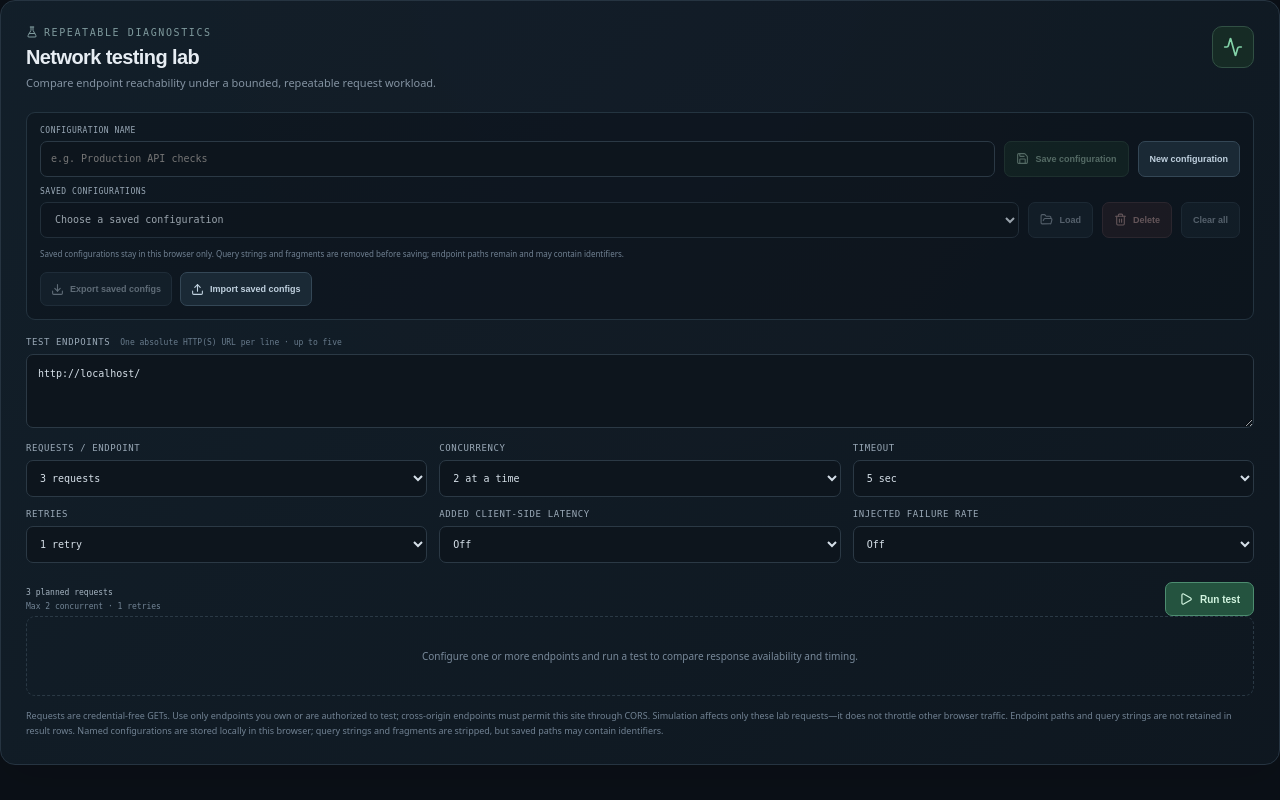
it: NetworkTestLab › deletes a saved configuration from local storage
In the field labelled "Configuration name": (518, 159) 40,141 -> 996,177, type "Temporary config"
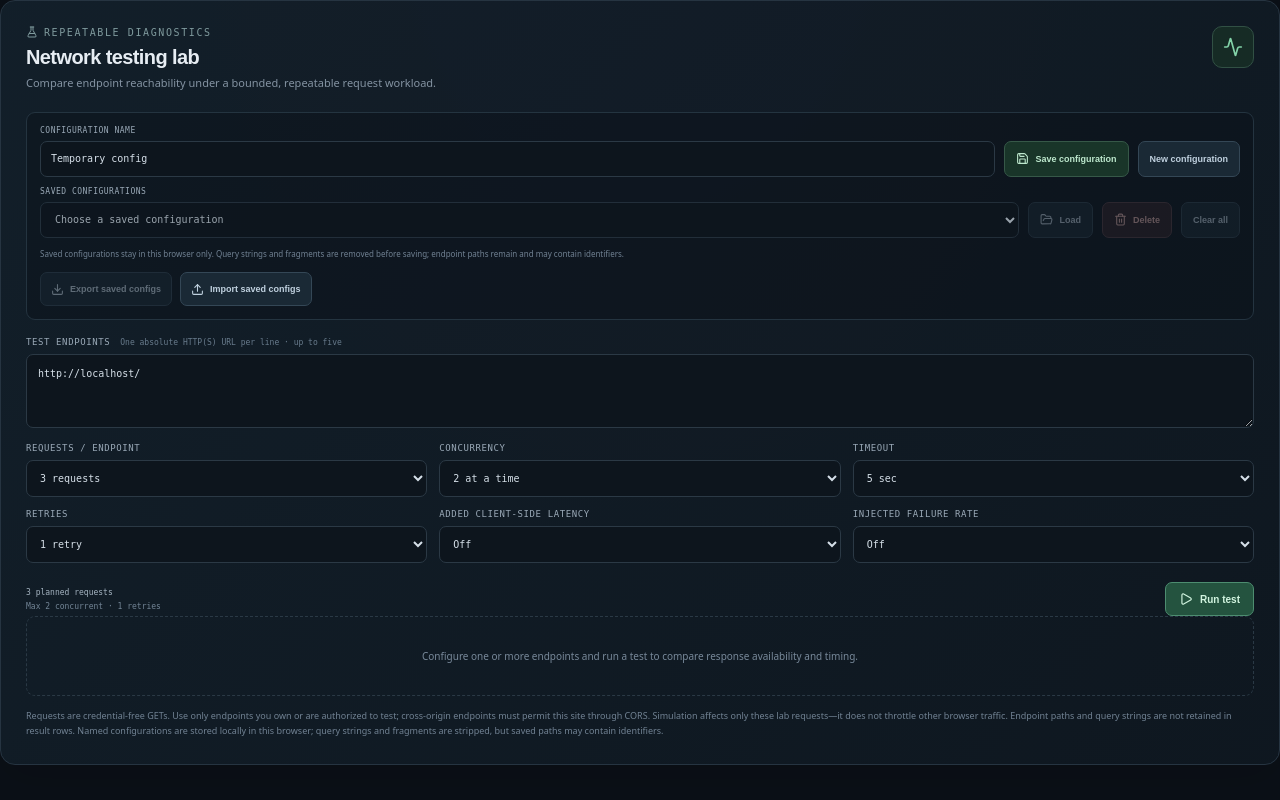
Click the button "Save configuration": click(1066, 159) 1004,141 -> 1128,177
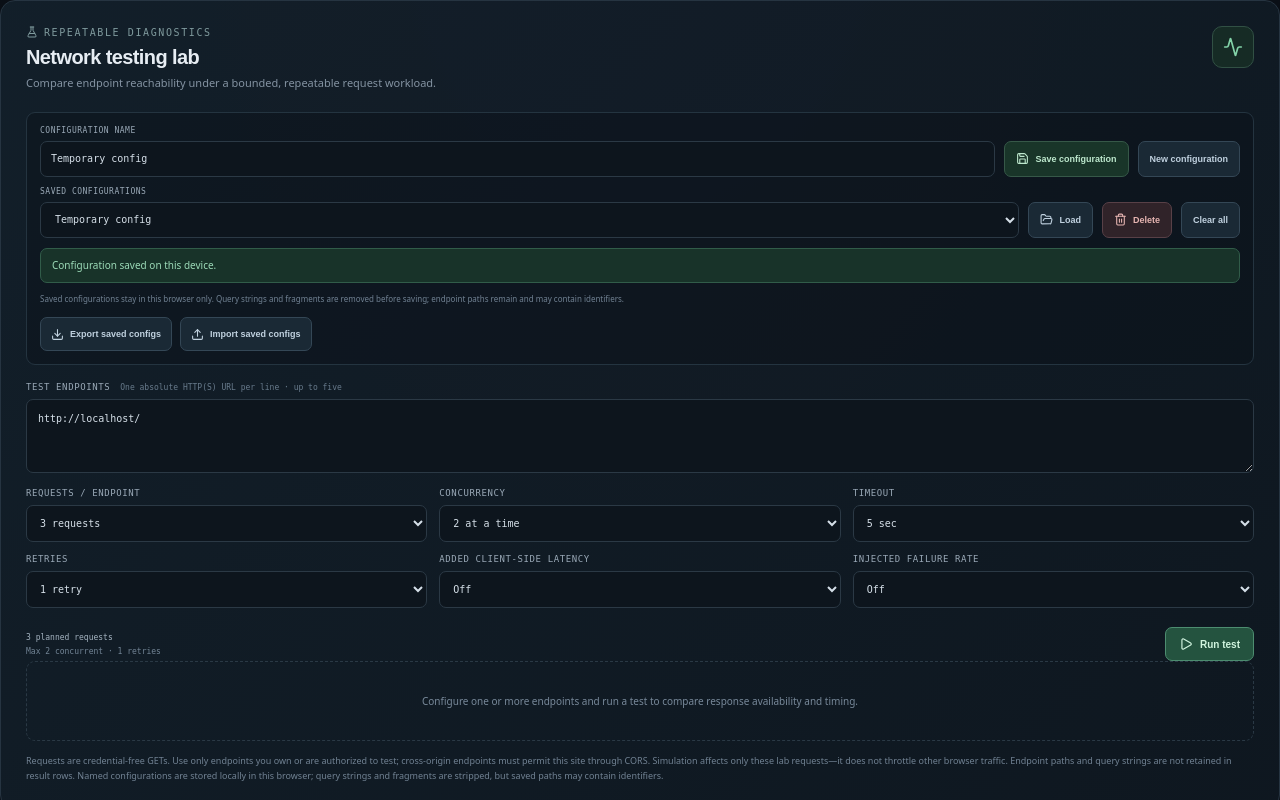
Check: the message "Configuration saved on this device." is shown, box 40,248 -> 1240,283
Click the button "Delete": click(1137, 220) 1102,202 -> 1172,238
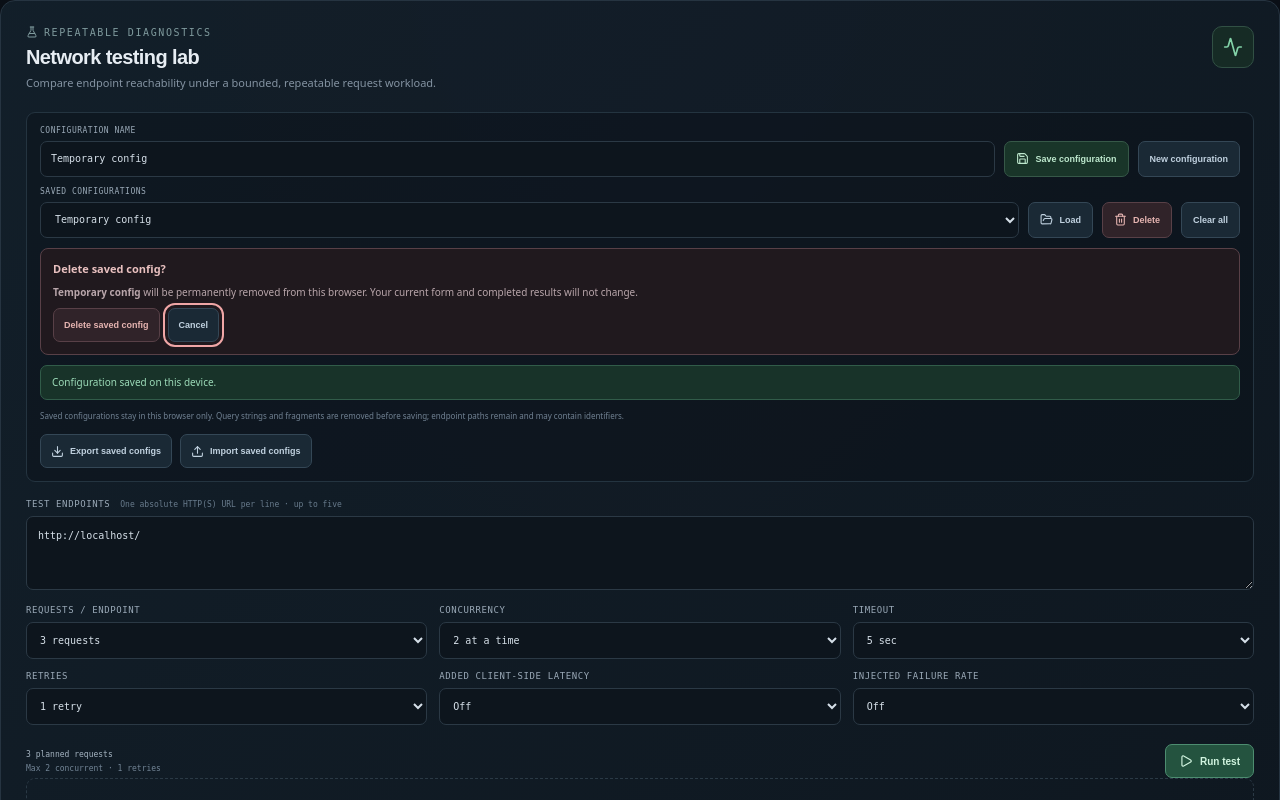
Check: the element "Delete saved config?" is shown, box 40,248 -> 1240,355
Click the button "Delete saved config": click(106, 325) 53,308 -> 160,342
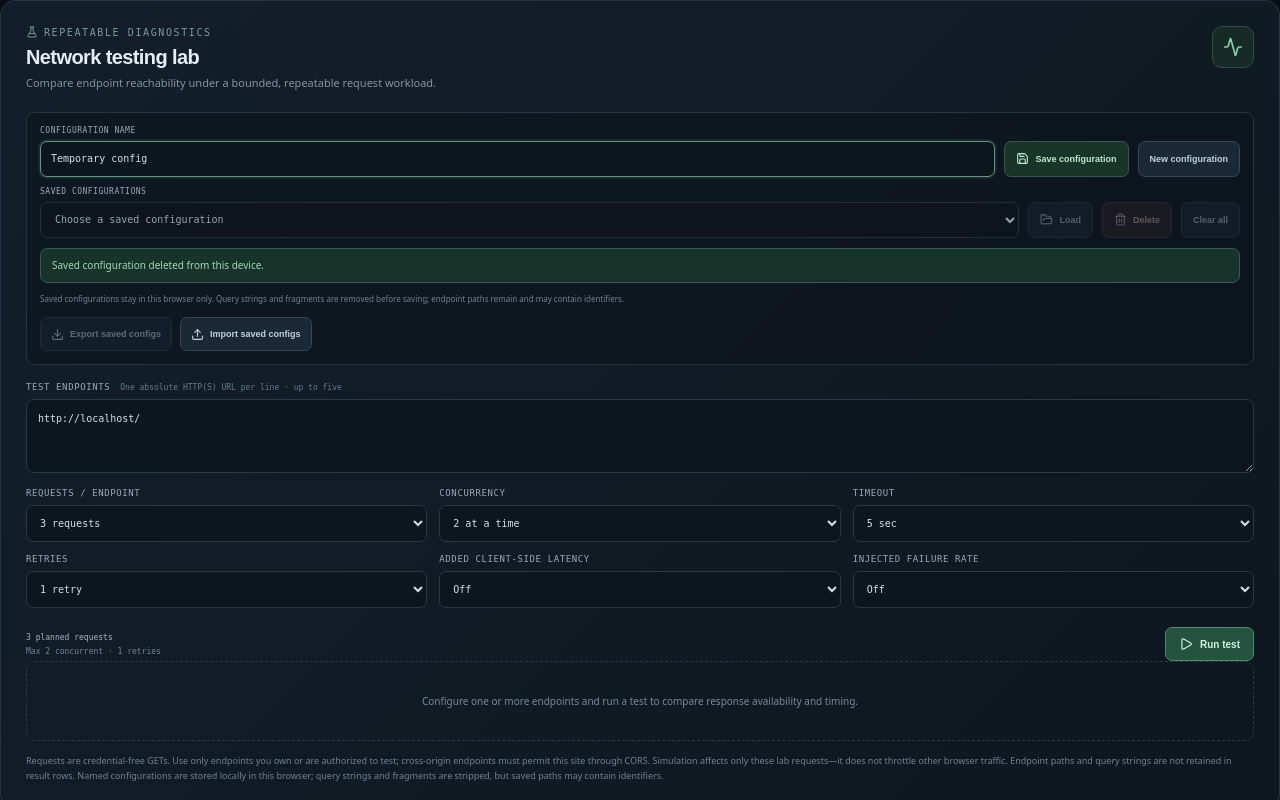
Check: the message shows "deleted from this device", box 52,258 -> 264,272
